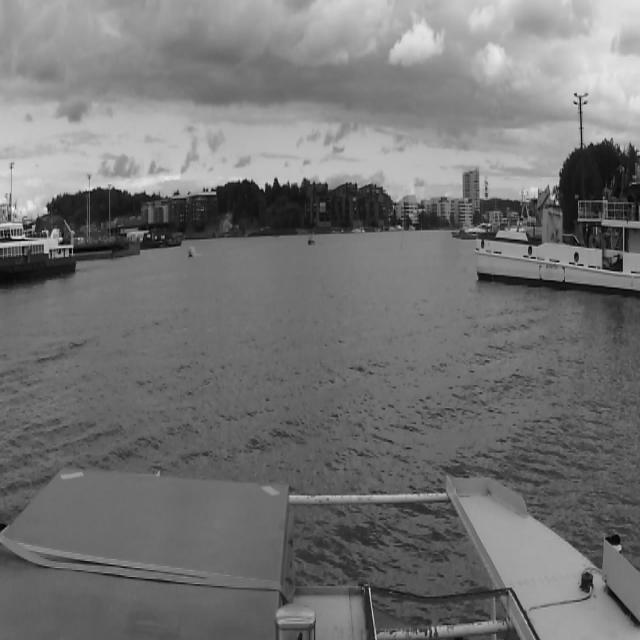ship: (476, 184, 634, 298), (0, 212, 82, 280), (308, 236, 314, 246), (188, 247, 194, 257)
